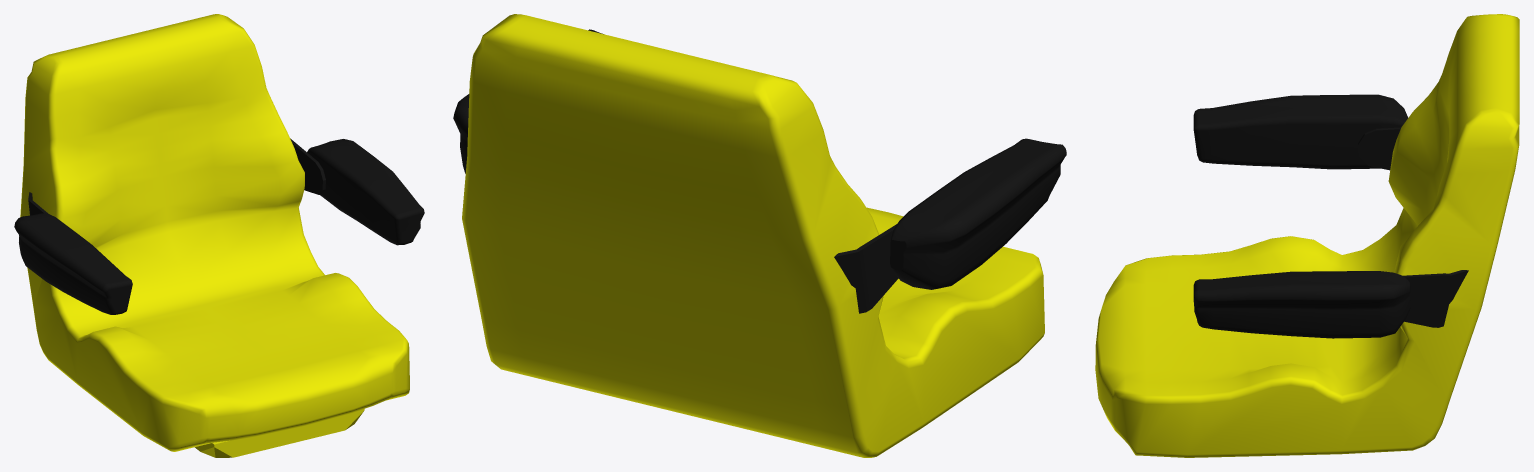
File: banco.gltf
The picture shows the model from 3 angles, left to right: view 1: azimuth 30°, elevation 25°; view 2: azimuth 150°, elevation 25°; view 3: azimuth 270°, elevation 25°; orthographic projection. The views are drawn at different scales.
Visible parts, largest first — view 1: 5060e.132; view 2: 5060e.132; view 3: 5060e.132.
Boxes of the visible parts, x1,y1,x2,y2 form: 5060e.132: (14,14,424,457); 5060e.132: (453,14,1066,457); 5060e.132: (1095,14,1519,457).
Size of the model in its own units: 63.27 by 52.41 by 57.54.
